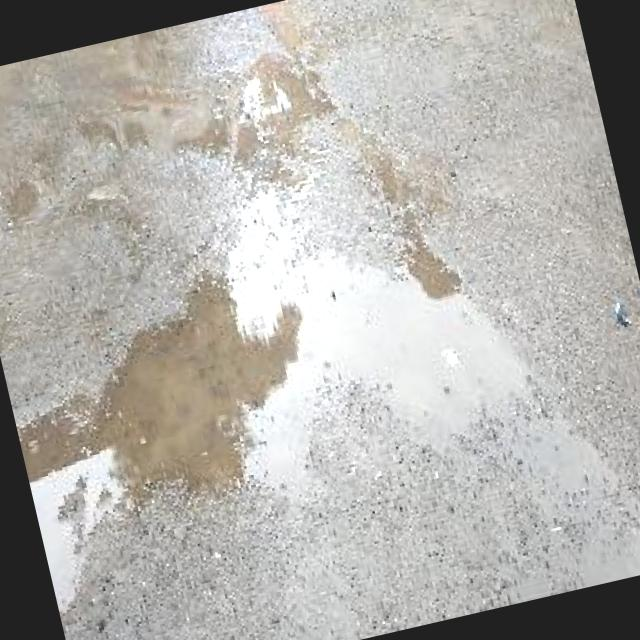waterlogging: (0, 248, 508, 540)
